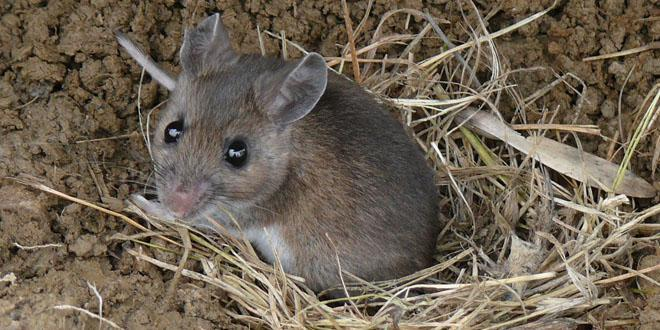rat: (152, 12, 438, 292)
